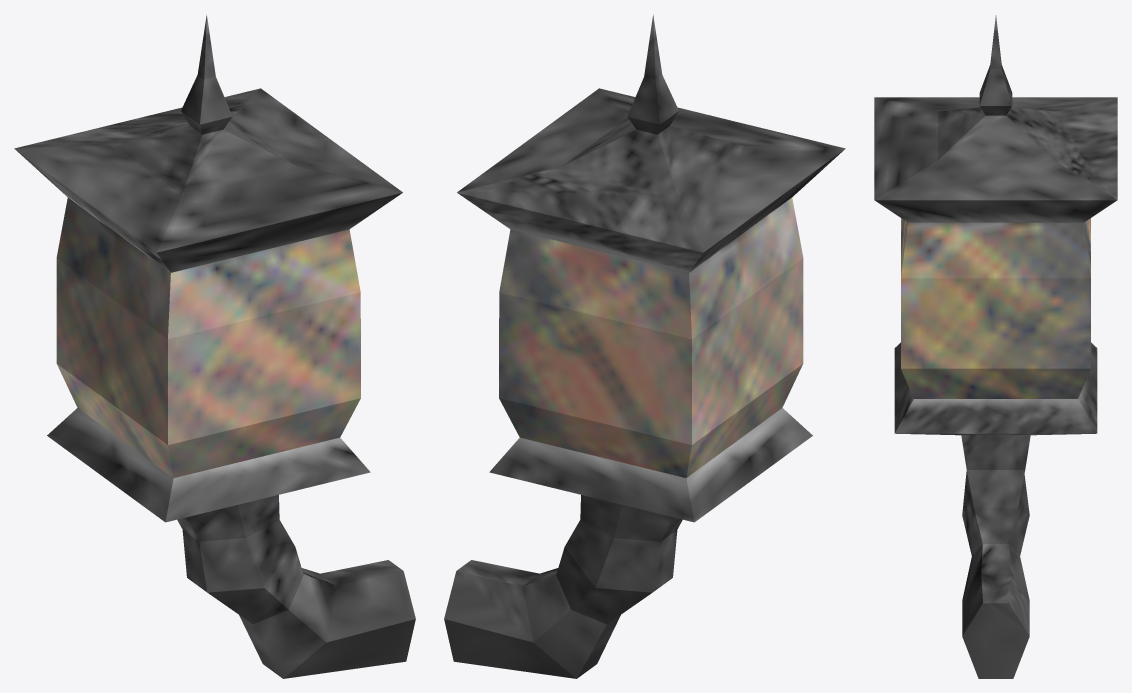
The model's file is lamp.fbx.
The picture shows the model from 3 angles, left to right: view 1: azimuth 30°, elevation 25°; view 2: azimuth 150°, elevation 25°; view 3: azimuth 270°, elevation 25°; orthographic projection. The views are drawn at different scales.
Visible parts, largest first — view 1: Cube; view 2: Cube; view 3: Cube.
Part boxes in pixels (x1,y1,x2,y2): Cube: [14, 14, 415, 678]; Cube: [444, 14, 845, 678]; Cube: [874, 15, 1117, 678].
Size of the model in its own units: 106 by 224 by 84.09.
Materials: 2 (2 with a texture image).
